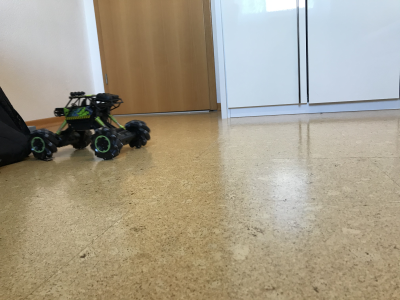remote control car: (24, 87, 153, 164)
